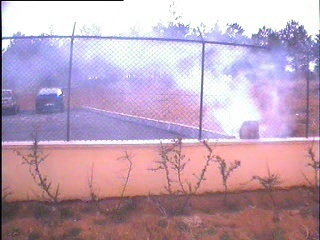smoke: (129, 22, 298, 139)
